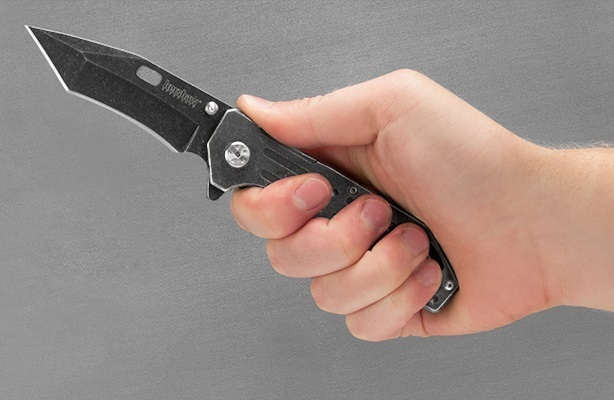knife: (15, 17, 393, 257)
